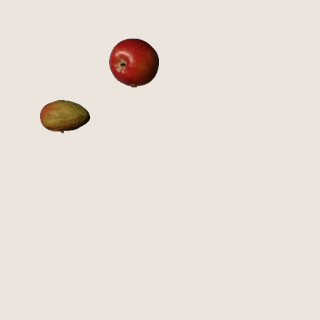Apple Braeburn: (108, 37, 158, 87)
Papaya: (39, 91, 89, 141)
